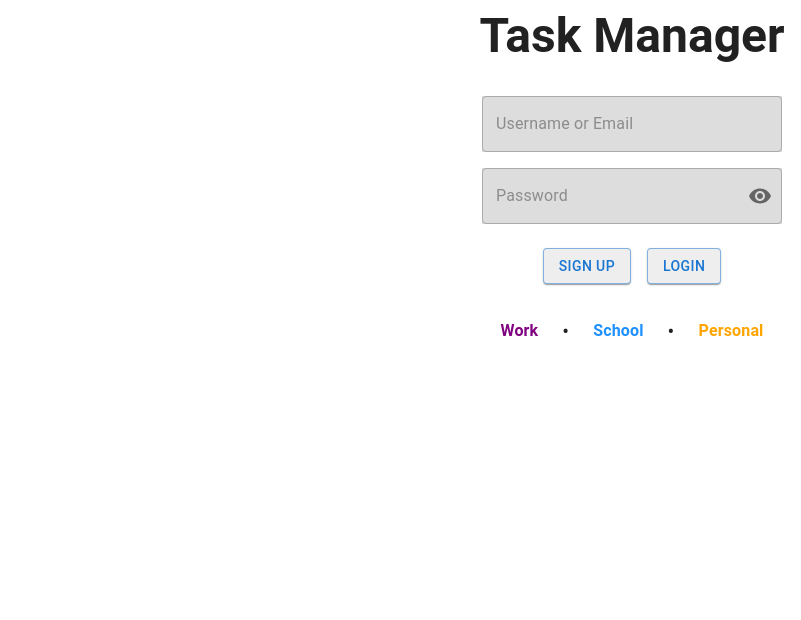
it: LoginPage Tests › shows error message on failed login
The width and height of the screenshot is (801, 620).
Type "test@example.com" into the field with placeholder "Username or Email" at (632, 124), box 482,96 -> 782,152
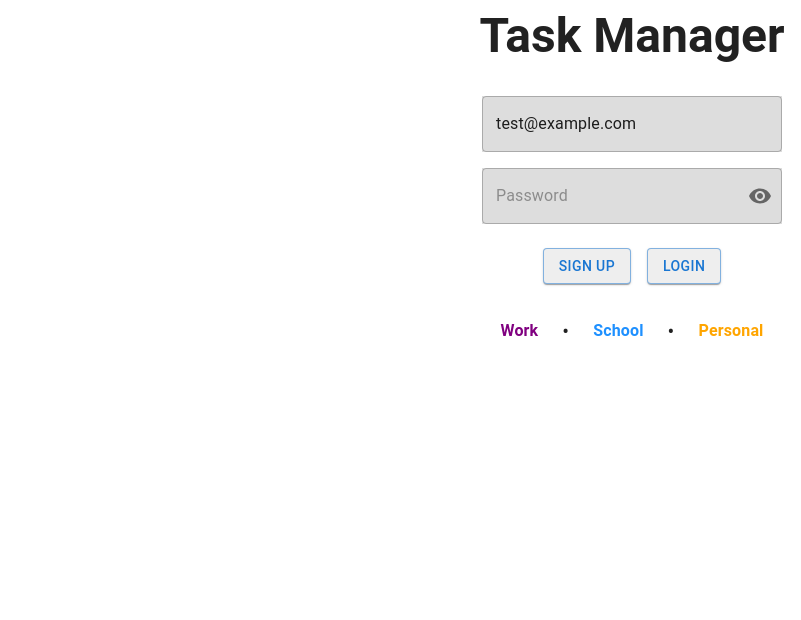
Type "wrongpassword" into the password field with placeholder "Password" at (607, 196), box 482,168 -> 732,224
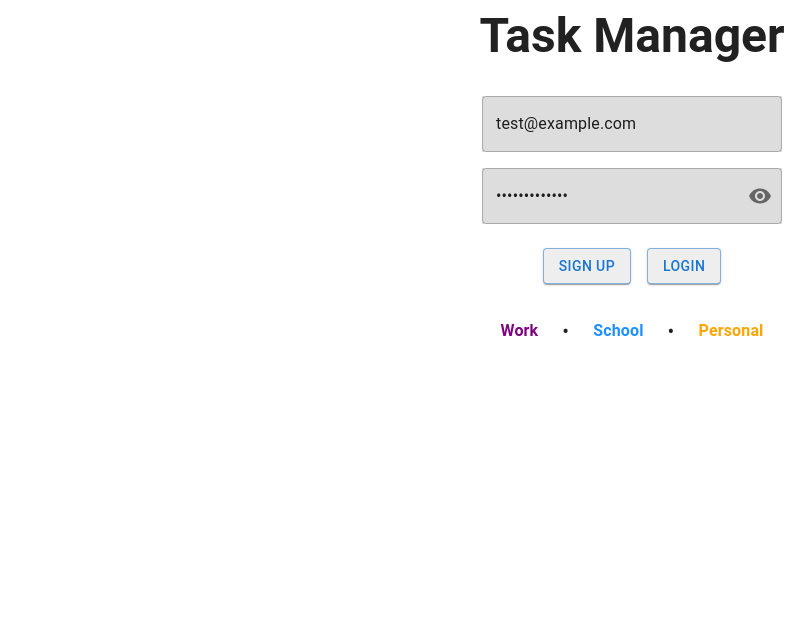
Click the button "Login" at (684, 266), box 647,248 -> 721,284
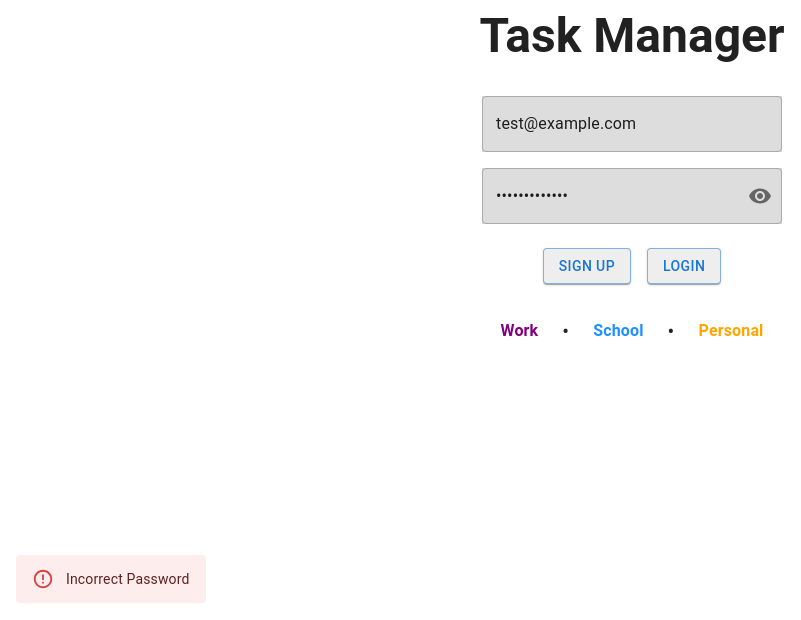
Check: the text "Incorrect Password" is shown, box 66,571 -> 190,587
